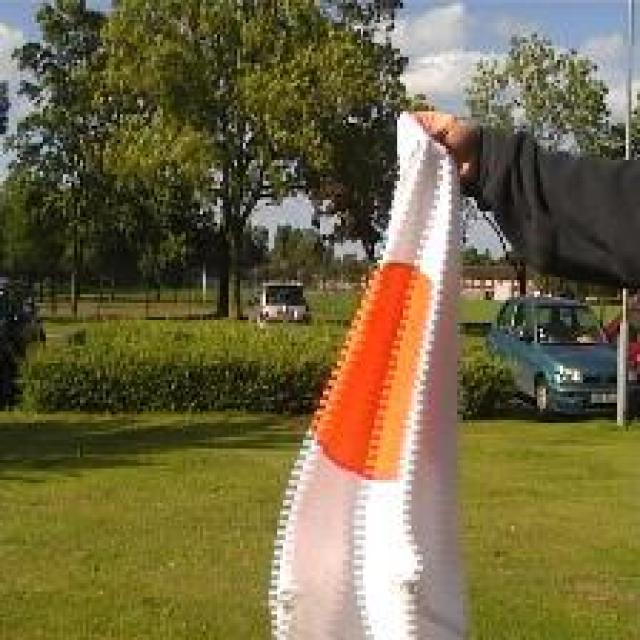other: (272, 240, 478, 492)
